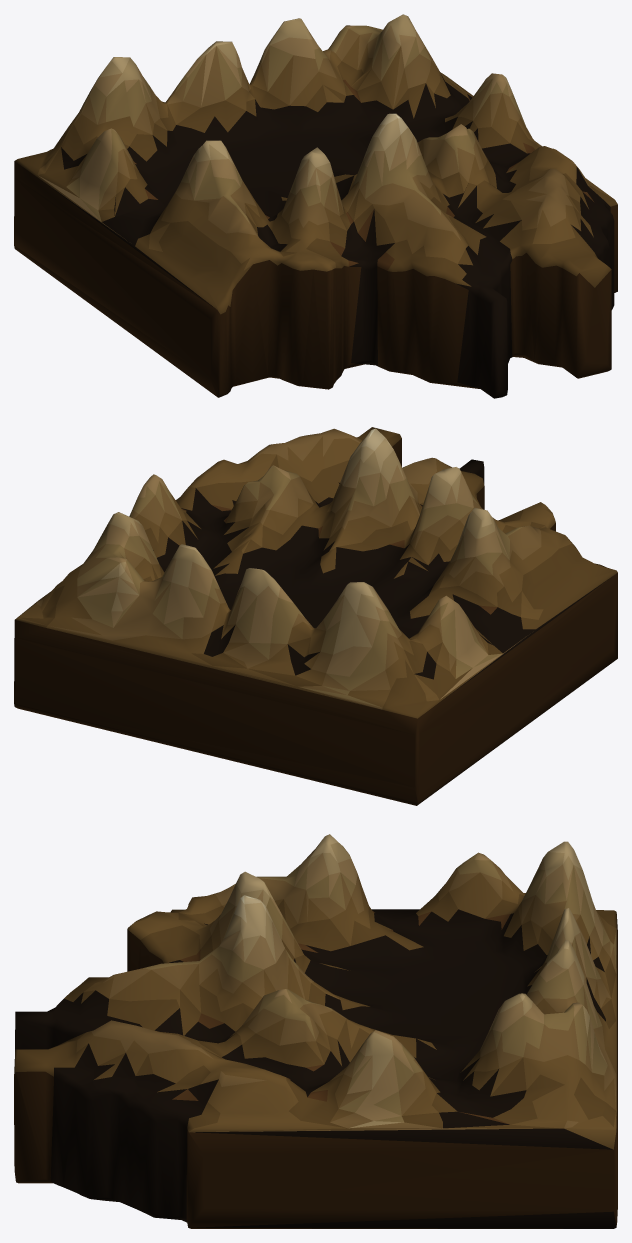
The model's file is ixm_maw.glb.
3 renders of one model, top to bottom at view 1: azimuth 30°, elevation 25°; view 2: azimuth 150°, elevation 25°; view 3: azimuth 270°, elevation 25°, orthographic. The views are drawn at different scales.
Parts seen in each view (by area): view 1: ixm_maw; view 2: ixm_maw; view 3: ixm_maw.
Part boxes in pixels (<box>): ixm_maw: <box>14,14,617,398</box>; ixm_maw: <box>14,427,617,805</box>; ixm_maw: <box>14,834,617,1228</box>.
Bounding box in the file's own units: 24.14 × 11.71 × 27.95.
